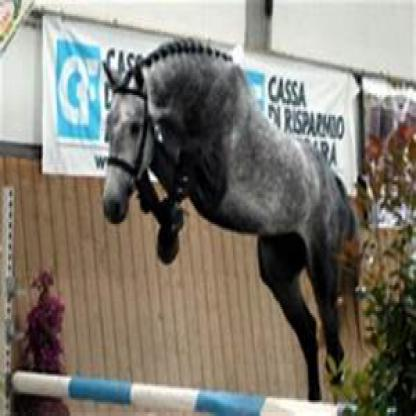horse: (101, 38, 354, 402)
